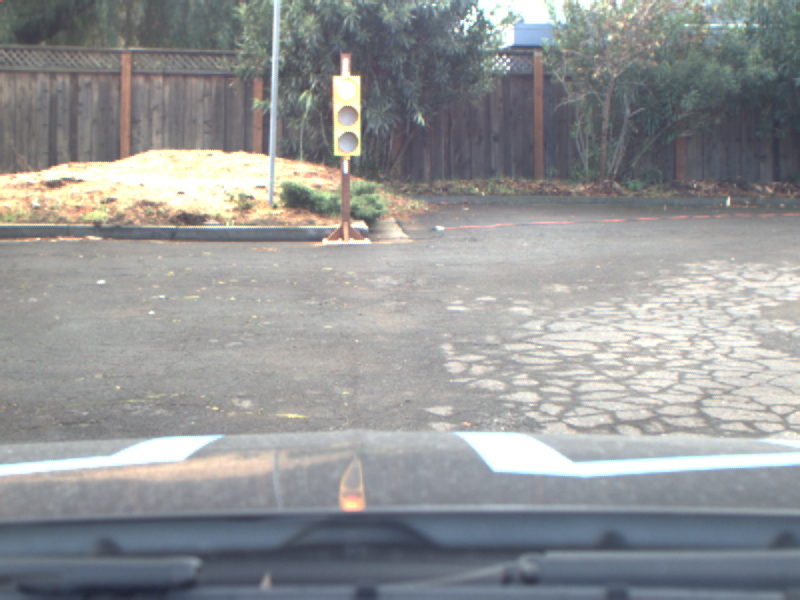Red: (333, 76, 361, 156)
